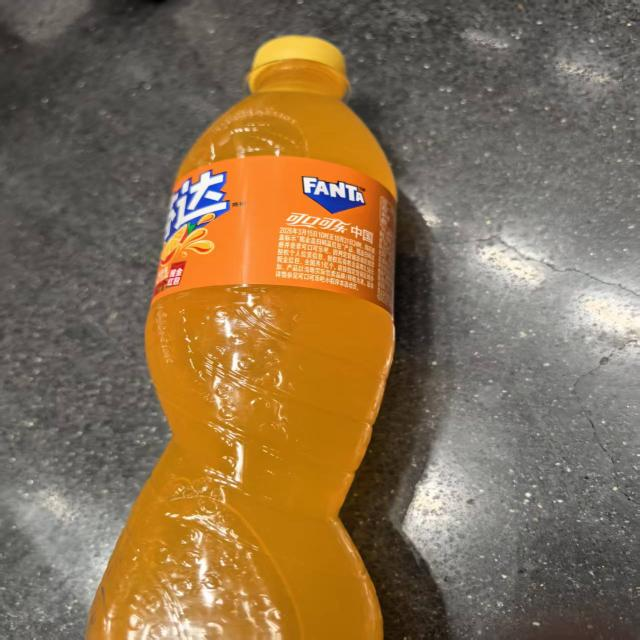orange: (147, 164, 238, 280)
